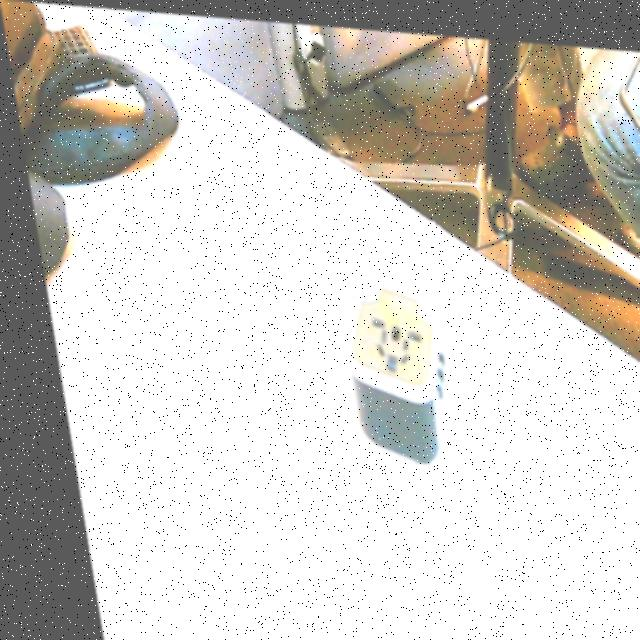adapter: (324, 273, 450, 460)
